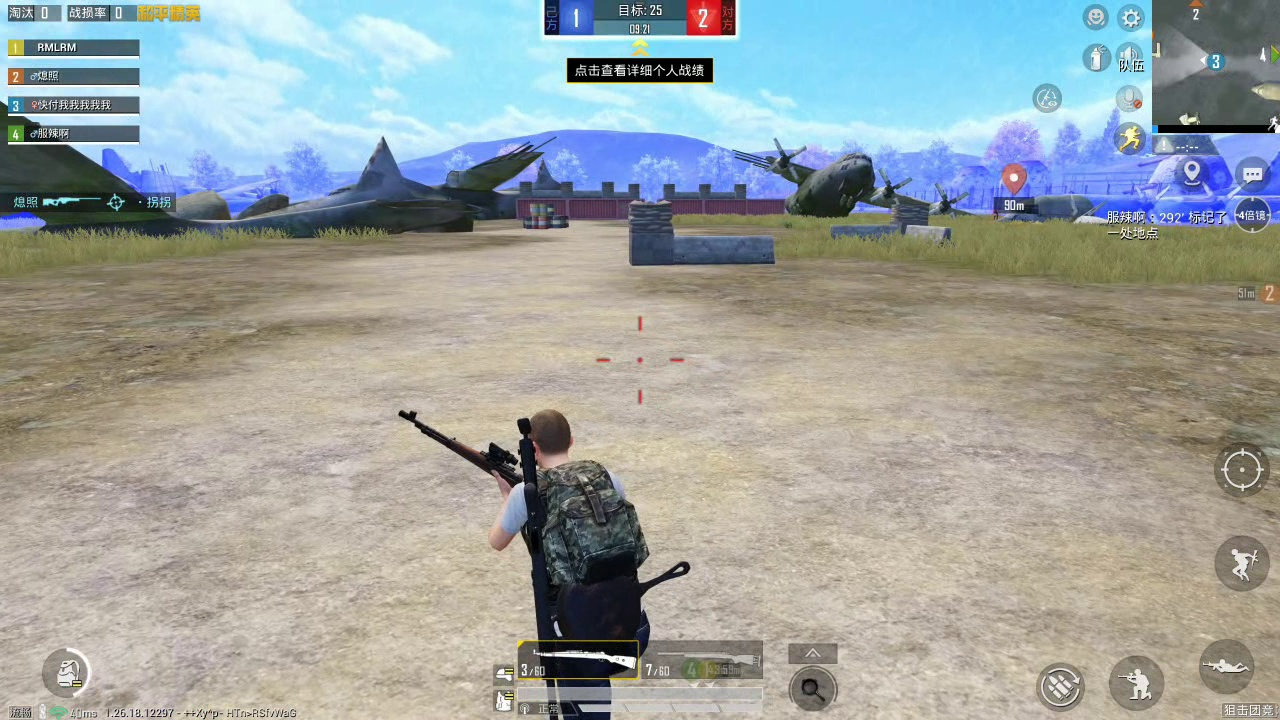enemy: (991, 206, 1000, 221)
